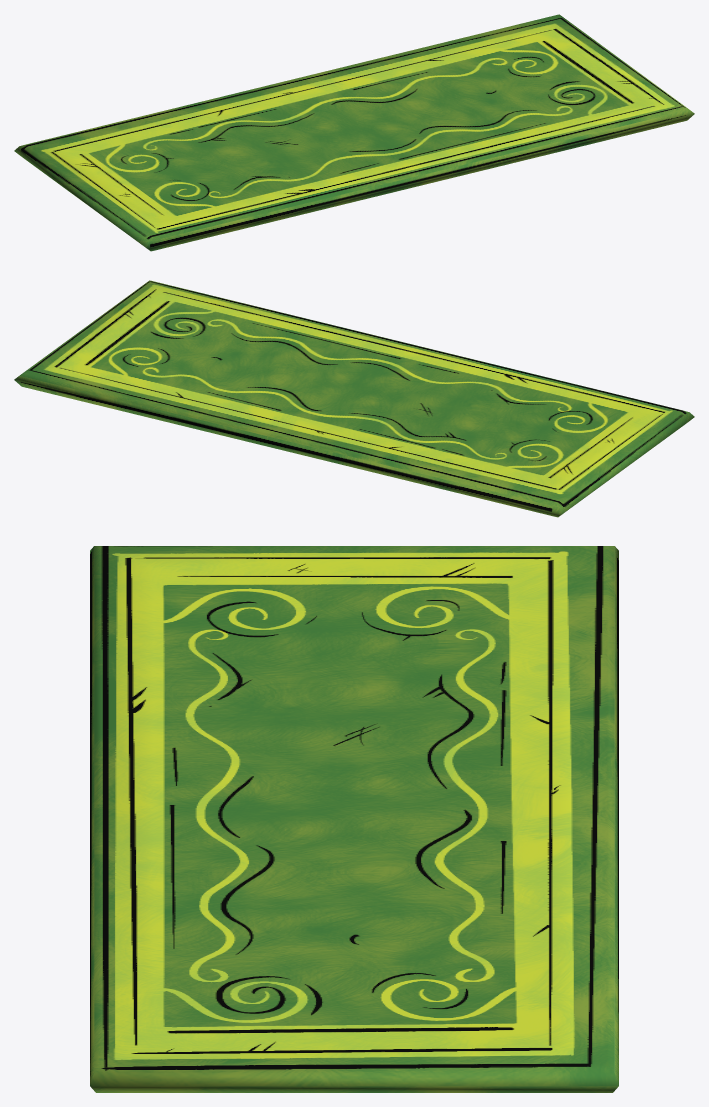
The model's file is Carpet_B.glb.
3 renders of one model, top to bottom at view 1: azimuth 30°, elevation 25°; view 2: azimuth 150°, elevation 25°; view 3: azimuth 270°, elevation 25°, orthographic. The views are drawn at different scales.
Visible parts, largest first — view 1: Carpet B; view 2: Carpet B; view 3: Carpet B.
Part boxes in pixels (<box>): Carpet B: <box>14,14,694,251</box>; Carpet B: <box>14,280,694,517</box>; Carpet B: <box>90,546,618,1092</box>.
Size of the model in its own units: 11.7 by 0.2609 by 4.88.
1 material, 1 textured.
